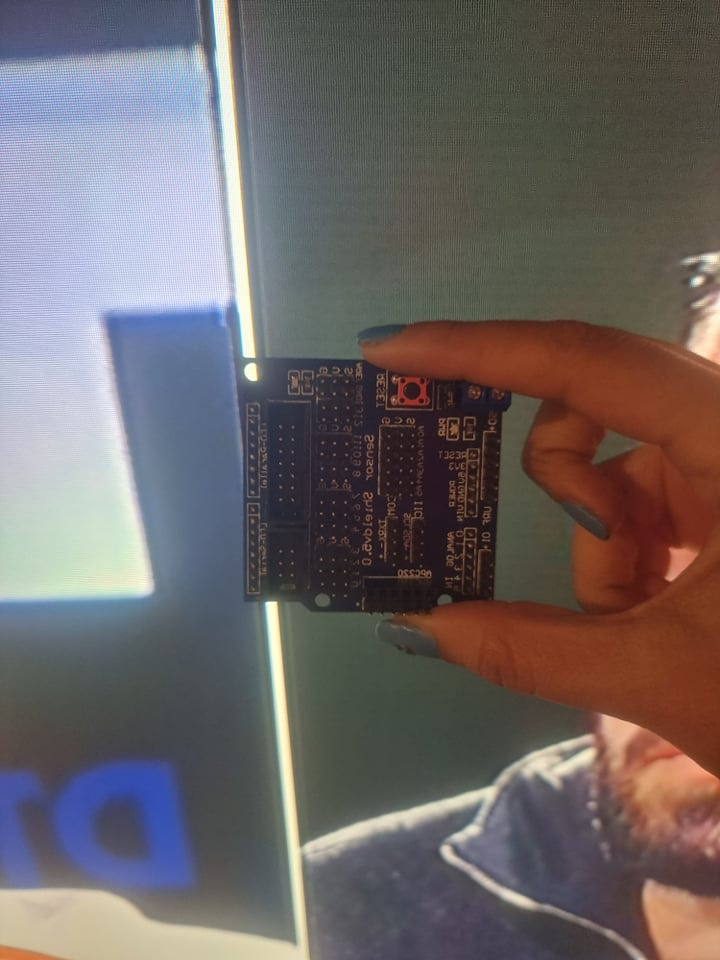5V EXPANSION: (238, 350, 524, 617)
